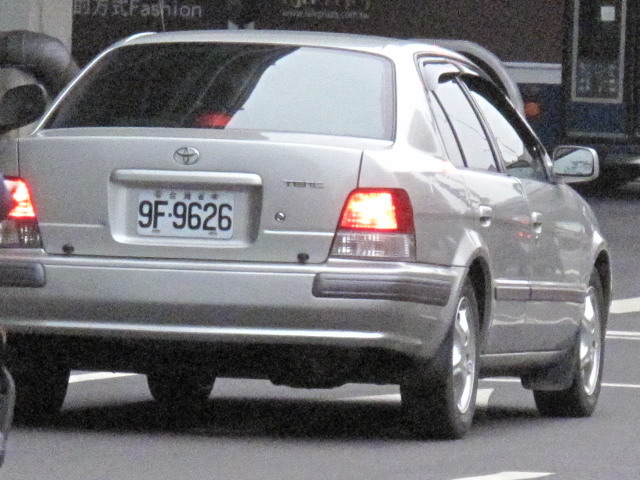plate: (134, 184, 236, 242)
